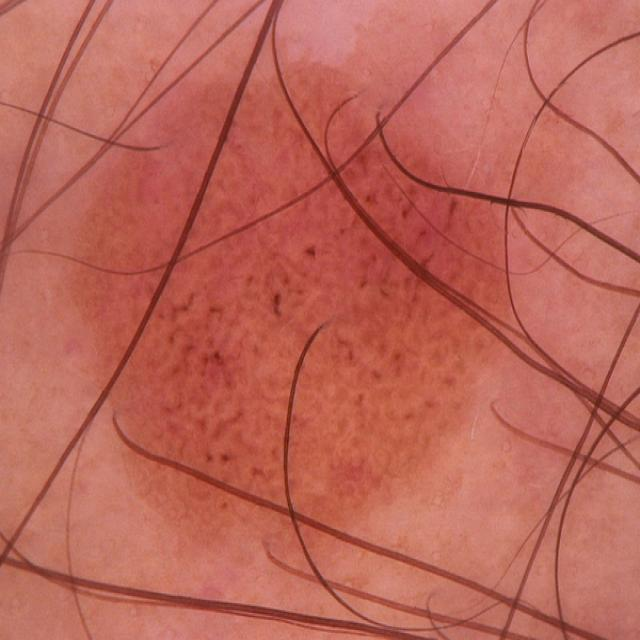Skin-Cancer Pigmented benign keratosis: (26, 17, 548, 611)
